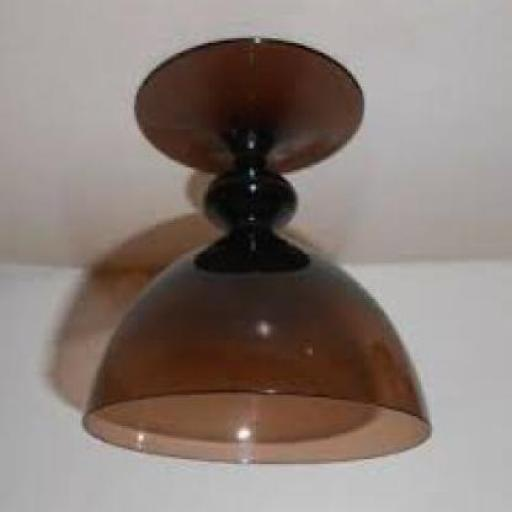glass: (80, 43, 430, 467)
